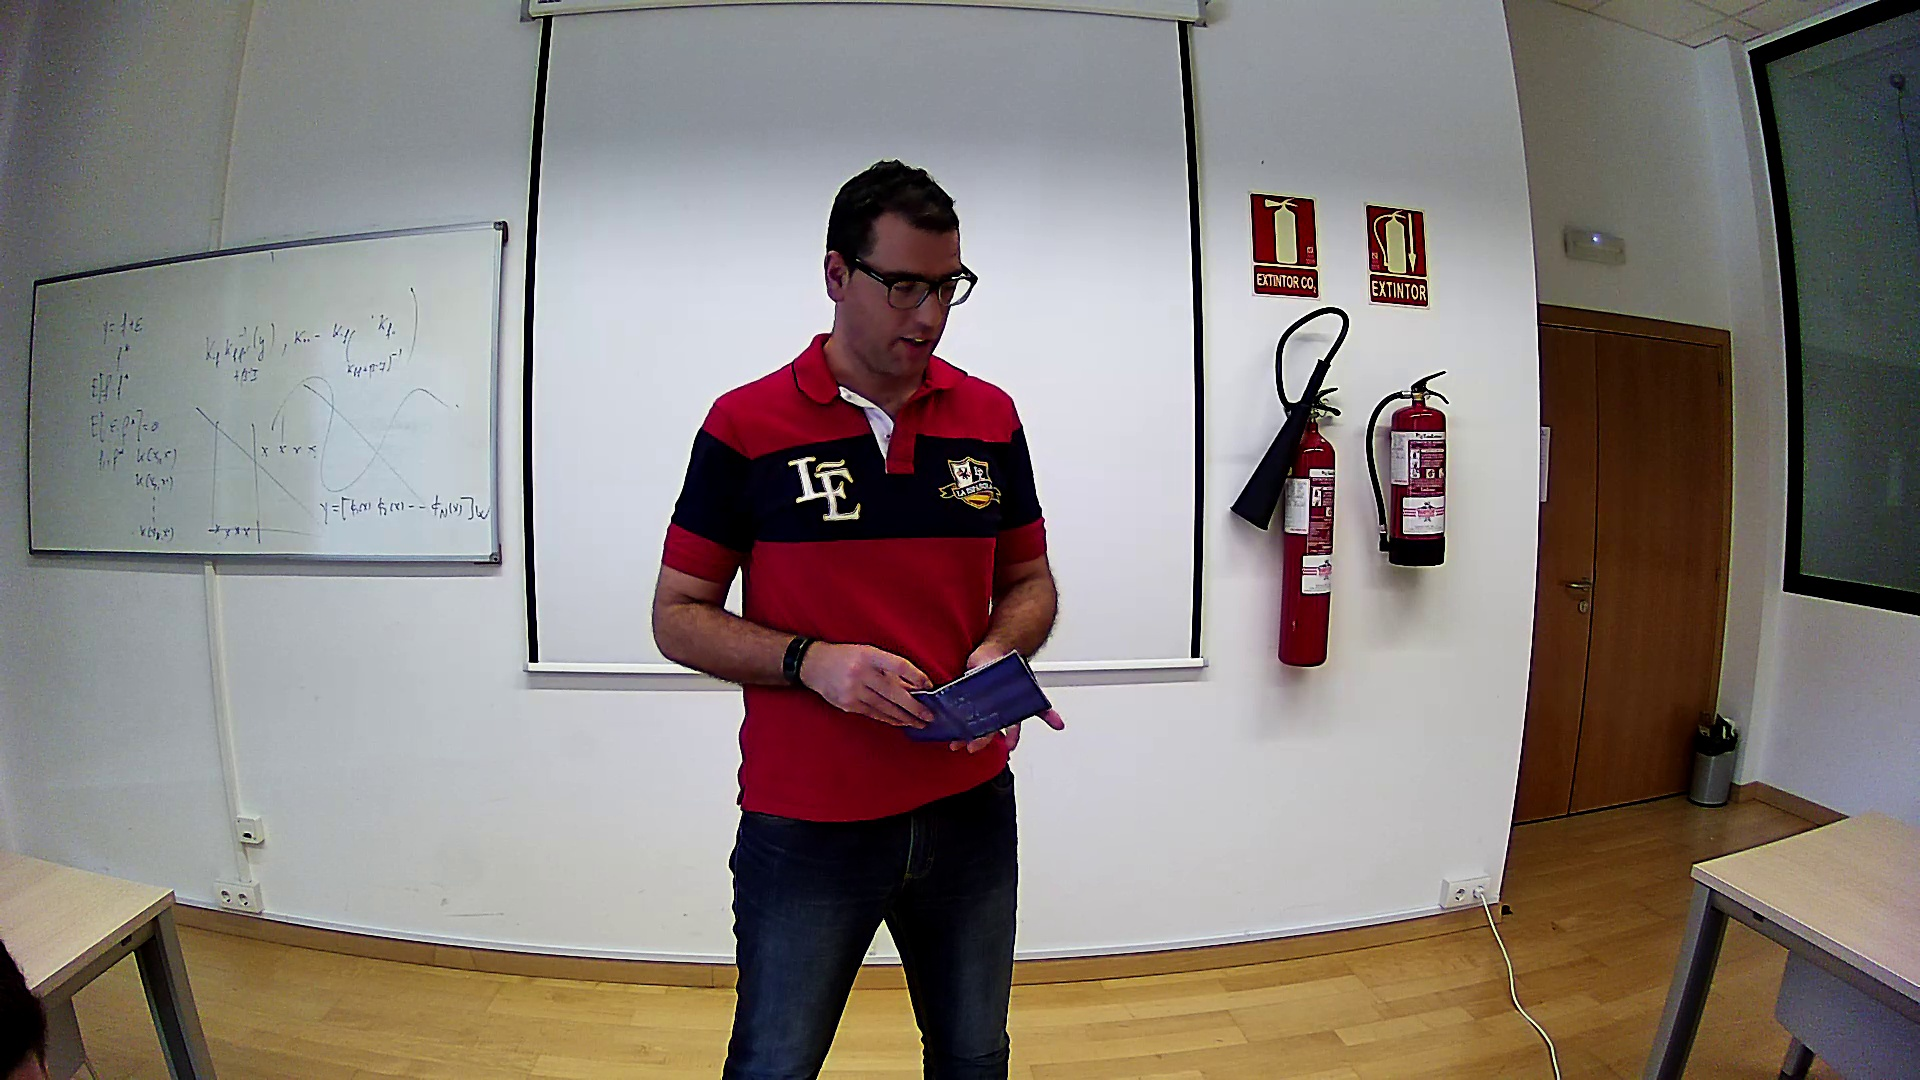monedero: (891, 647, 1054, 744)
